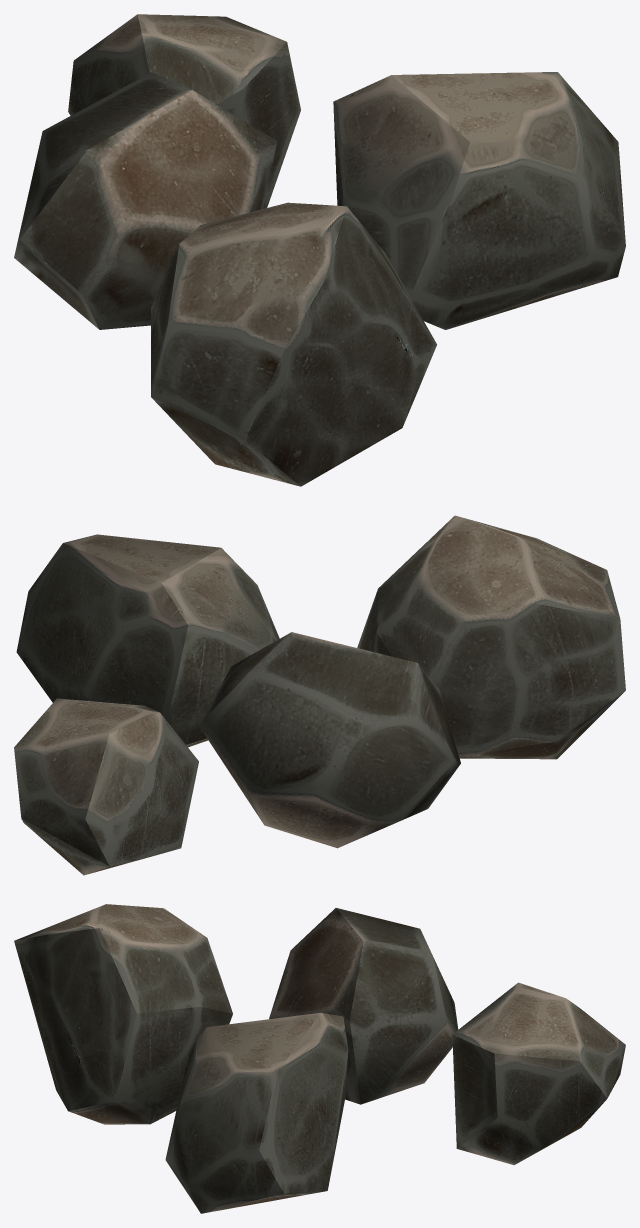
File: pebble_group_2.fbx
3 renders of one model, top to bottom at view 1: azimuth 30°, elevation 25°; view 2: azimuth 150°, elevation 25°; view 3: azimuth 270°, elevation 25°, orthographic. The views are drawn at different scales.
Parts seen in each view (by area): view 1: pebble_group_2; view 2: pebble_group_2; view 3: pebble_group_2.
Part boxes in pixels (bbox=[...]): pebble_group_2: bbox=[14, 14, 625, 486]; pebble_group_2: bbox=[14, 515, 625, 875]; pebble_group_2: bbox=[14, 904, 625, 1213].
Size of the model in its own units: 0.9013 by 0.3761 by 1.07.
